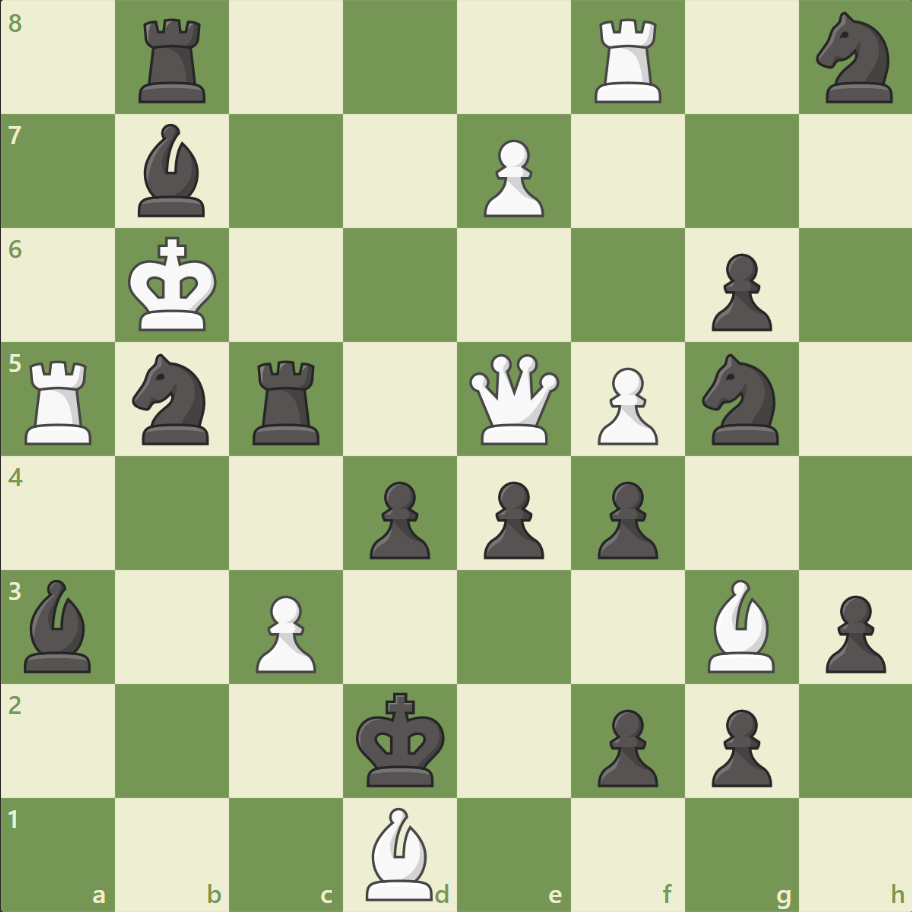B: (358, 801, 442, 904), (698, 574, 782, 676)
K: (124, 231, 224, 339)
P: (474, 132, 549, 223), (247, 586, 322, 677), (588, 359, 662, 450)
Q: (464, 349, 563, 449)
R: (587, 12, 670, 109), (19, 352, 102, 449)
b: (131, 120, 215, 222), (17, 574, 101, 676)
k: (351, 685, 451, 793)
n: (124, 348, 222, 450), (806, 7, 903, 110), (692, 348, 789, 450)
p: (701, 246, 776, 337), (474, 473, 549, 564), (701, 700, 776, 791), (361, 473, 435, 564), (588, 473, 662, 564), (815, 586, 889, 677), (588, 700, 662, 791)
r: (246, 352, 329, 449), (133, 12, 215, 109)
